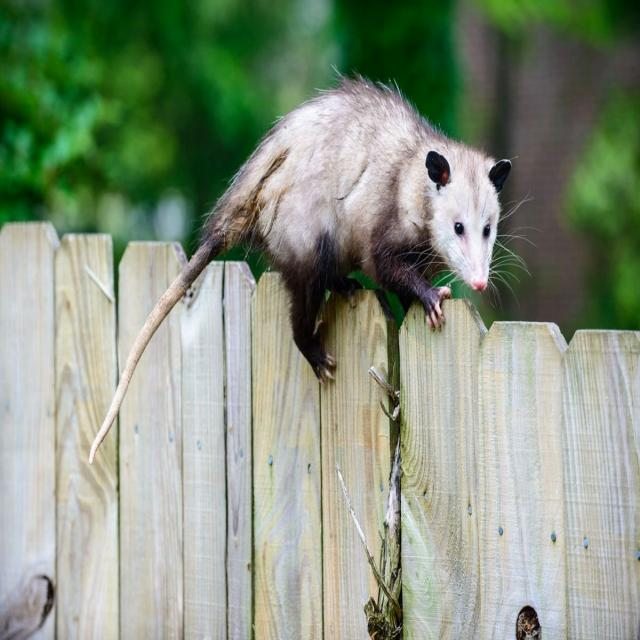possum: (91, 77, 525, 462)
